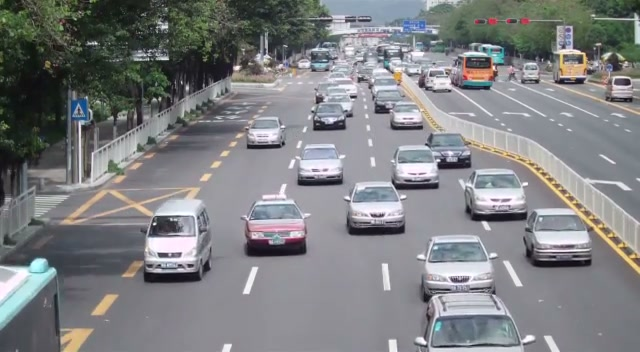car: (414, 291, 534, 352), (141, 197, 213, 282), (416, 234, 500, 302), (522, 207, 594, 267), (240, 197, 310, 256), (460, 168, 528, 221), (342, 180, 407, 235), (389, 144, 440, 190), (296, 143, 345, 186), (425, 132, 472, 169), (246, 117, 287, 149), (312, 103, 347, 131), (389, 103, 424, 130), (604, 76, 634, 102)
truck: (553, 49, 588, 84), (521, 62, 540, 84)
